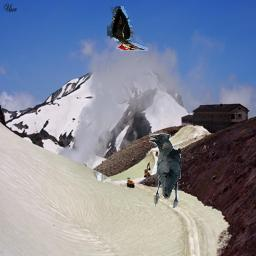Crow: (149, 130, 181, 208)
Woodpecker: (108, 7, 149, 52)
